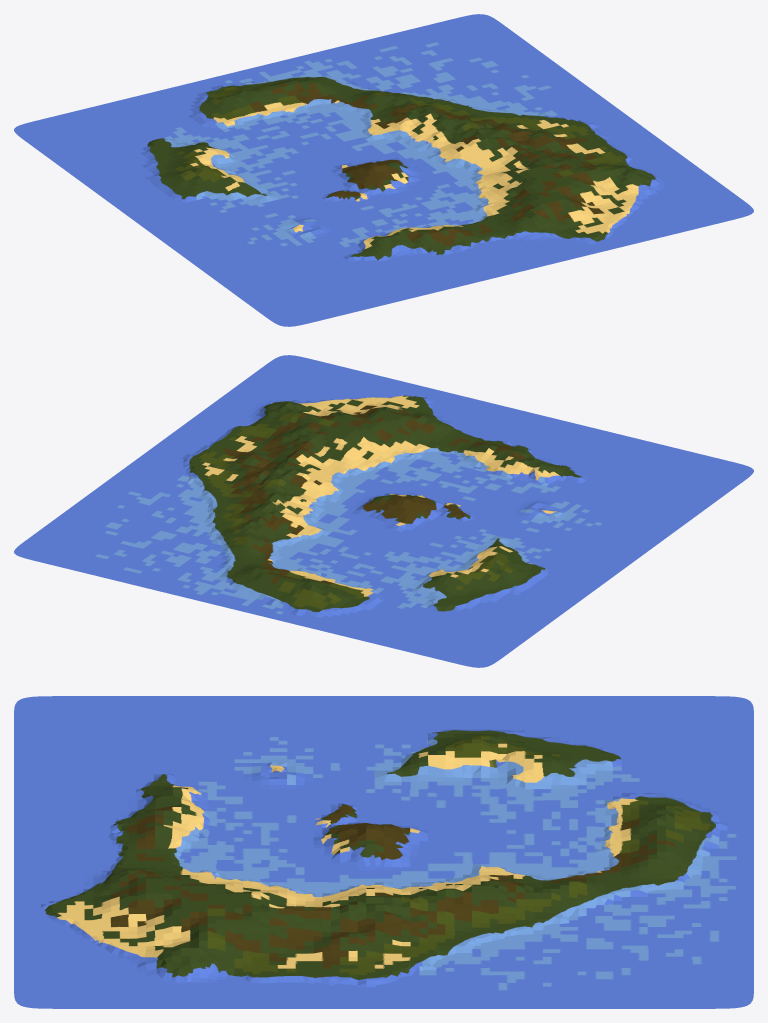
Rendered from Santorini-Map.fbx.
3 renders of one model, top to bottom at view 1: azimuth 30°, elevation 25°; view 2: azimuth 150°, elevation 25°; view 3: azimuth 270°, elevation 25°, orthographic. The views are drawn at different scales.
Visible parts, largest first — view 1: GEO; view 2: GEO; view 3: GEO.
Part boxes in pixels (x1,y1,x2,y2): GEO: (14, 14, 753, 326); GEO: (14, 355, 753, 667); GEO: (14, 696, 753, 1008).
Size of the model in its own units: 1495 by 43.1 by 1495.
1 material, 1 textured.
